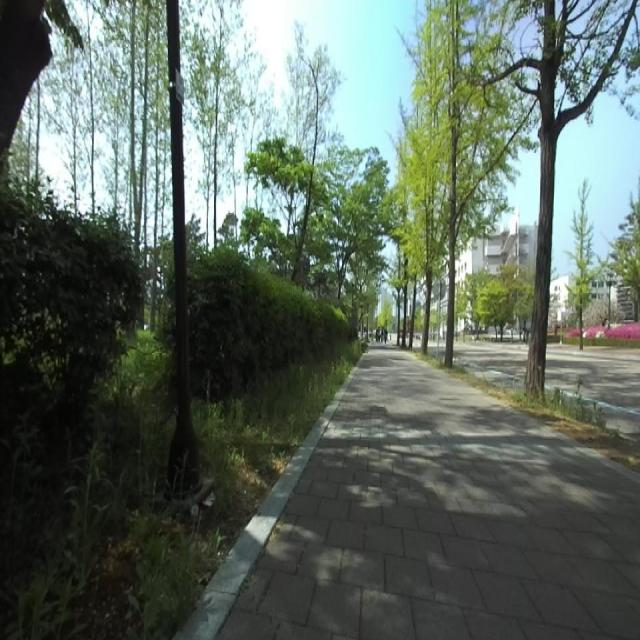sidewalk: (218, 344, 640, 639), (174, 360, 360, 640)
